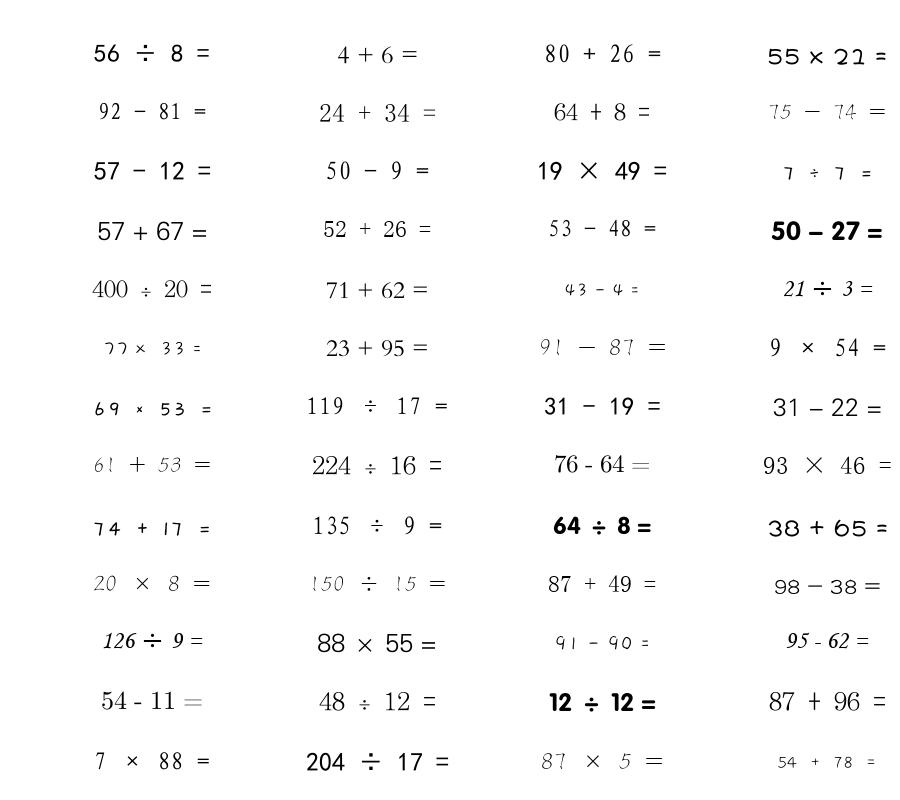MQ: (306, 752, 449, 772), (312, 455, 442, 475), (306, 397, 448, 415), (537, 161, 667, 180), (312, 516, 442, 535), (317, 633, 437, 653), (319, 691, 436, 711), (769, 691, 886, 711), (763, 456, 892, 474), (771, 221, 883, 241), (544, 44, 661, 63), (94, 161, 211, 180), (769, 338, 886, 357), (97, 221, 208, 241), (309, 576, 446, 592), (767, 519, 888, 537), (92, 280, 212, 298), (539, 339, 666, 356), (549, 692, 656, 712), (319, 104, 436, 122), (544, 397, 661, 415), (94, 44, 210, 62), (94, 752, 210, 770), (541, 753, 663, 770), (773, 398, 882, 417), (767, 48, 887, 65), (325, 161, 429, 180), (98, 102, 206, 120), (548, 219, 656, 237), (101, 691, 203, 710), (768, 104, 886, 120), (93, 457, 211, 473), (93, 575, 211, 591), (553, 516, 651, 535), (548, 575, 656, 592), (326, 282, 429, 299), (326, 340, 429, 357), (101, 632, 203, 649), (554, 103, 650, 121), (323, 221, 431, 237), (554, 455, 650, 473), (92, 402, 213, 416), (92, 522, 212, 536), (774, 579, 881, 594), (782, 280, 873, 297), (554, 635, 650, 651), (103, 341, 202, 356), (337, 46, 418, 64), (785, 632, 869, 649), (777, 756, 877, 769), (782, 167, 873, 180), (564, 283, 640, 297)
